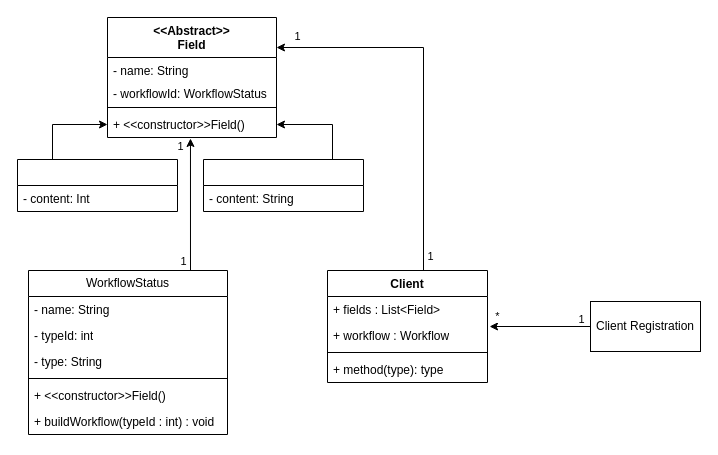
Some shapes in this 718 by 455 pixel diagram are drawn without their labels. The shapes that lost their labels are listed below. From the top down, each one's box as (x1, y1, x2, y2) in pixels, then its label:
(16, 158, 178, 212): FieldInt
(202, 158, 364, 212): FieldString
